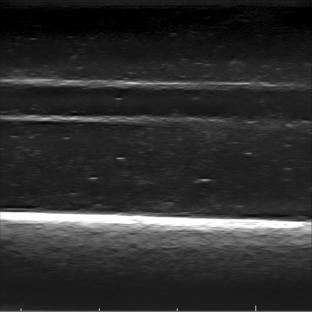vessel: (4, 79, 293, 126)
